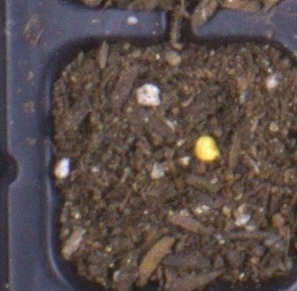chilli seed: (193, 135, 220, 162)
